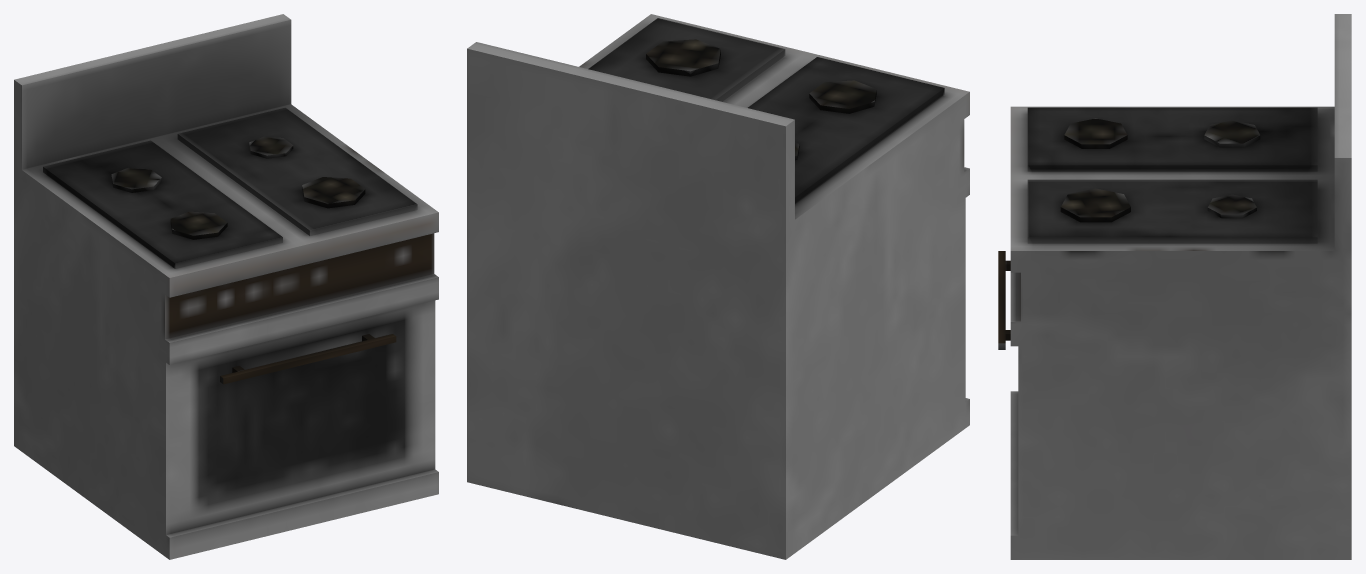
File: GasStove1.fbx
3 renders of one model, left to right at view 1: azimuth 30°, elevation 25°; view 2: azimuth 150°, elevation 25°; view 3: azimuth 270°, elevation 25°, orthographic. The views are drawn at different scales.
Parts seen in each view (by area): view 1: GasStove1; view 2: GasStove1; view 3: GasStove1.
Boxes of the visible parts, x1,y1,x2,y2 form: GasStove1: [14, 14, 438, 559]; GasStove1: [467, 14, 969, 559]; GasStove1: [998, 14, 1351, 559].
Bounding box in the file's own units: 1 × 1.3 × 1.04.
1 material, 1 textured.
